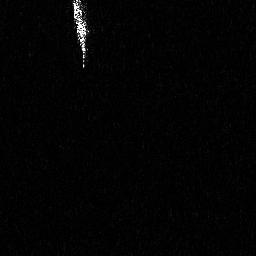ship: (69, 1, 91, 69)
